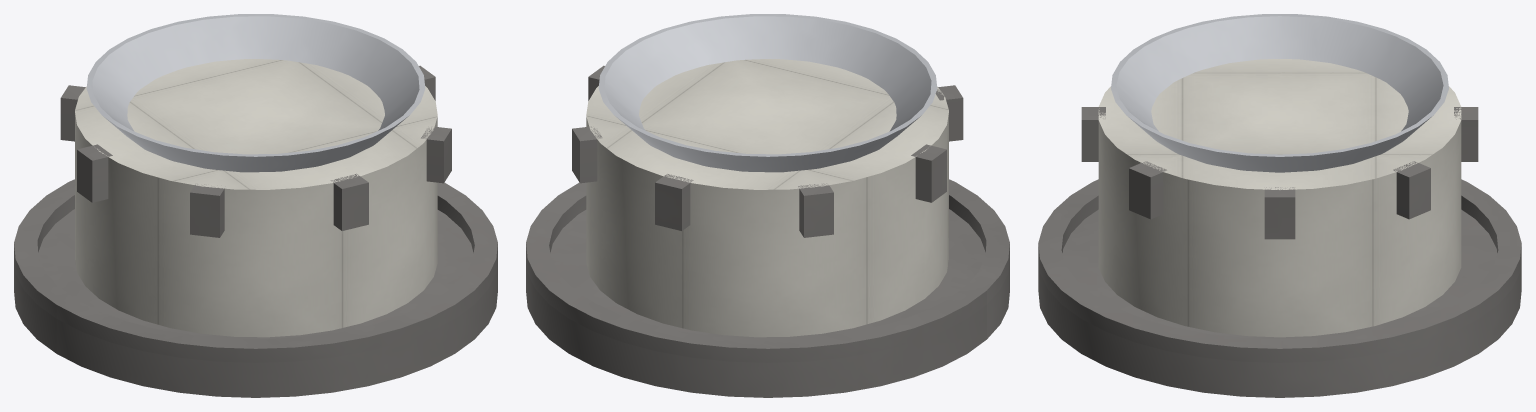
File: station14_probe_drogue_port_passive.glb
3 renders of one model, left to right at view 1: azimuth 30°, elevation 25°; view 2: azimuth 150°, elevation 25°; view 3: azimuth 270°, elevation 25°, orthographic.
Parts seen in each view (by area): view 1: body, flange, drogue, latches; view 2: body, flange, drogue, latches; view 3: body, flange, drogue, latches.
Part boxes in pixels (x1,y1,x2,y2): body: (75, 59, 437, 337); flange: (14, 179, 497, 397); drogue: (86, 14, 425, 172); latches: (60, 65, 451, 237); body: (586, 59, 948, 337); flange: (526, 179, 1009, 397); drogue: (598, 14, 937, 172); latches: (572, 65, 963, 237); body: (1098, 59, 1461, 337); flange: (1038, 179, 1521, 397); drogue: (1111, 14, 1448, 172); latches: (1081, 107, 1478, 239).
Size of the model in its own units: 0.625 by 0.3 by 0.6245.
4 materials, 3 textured.
